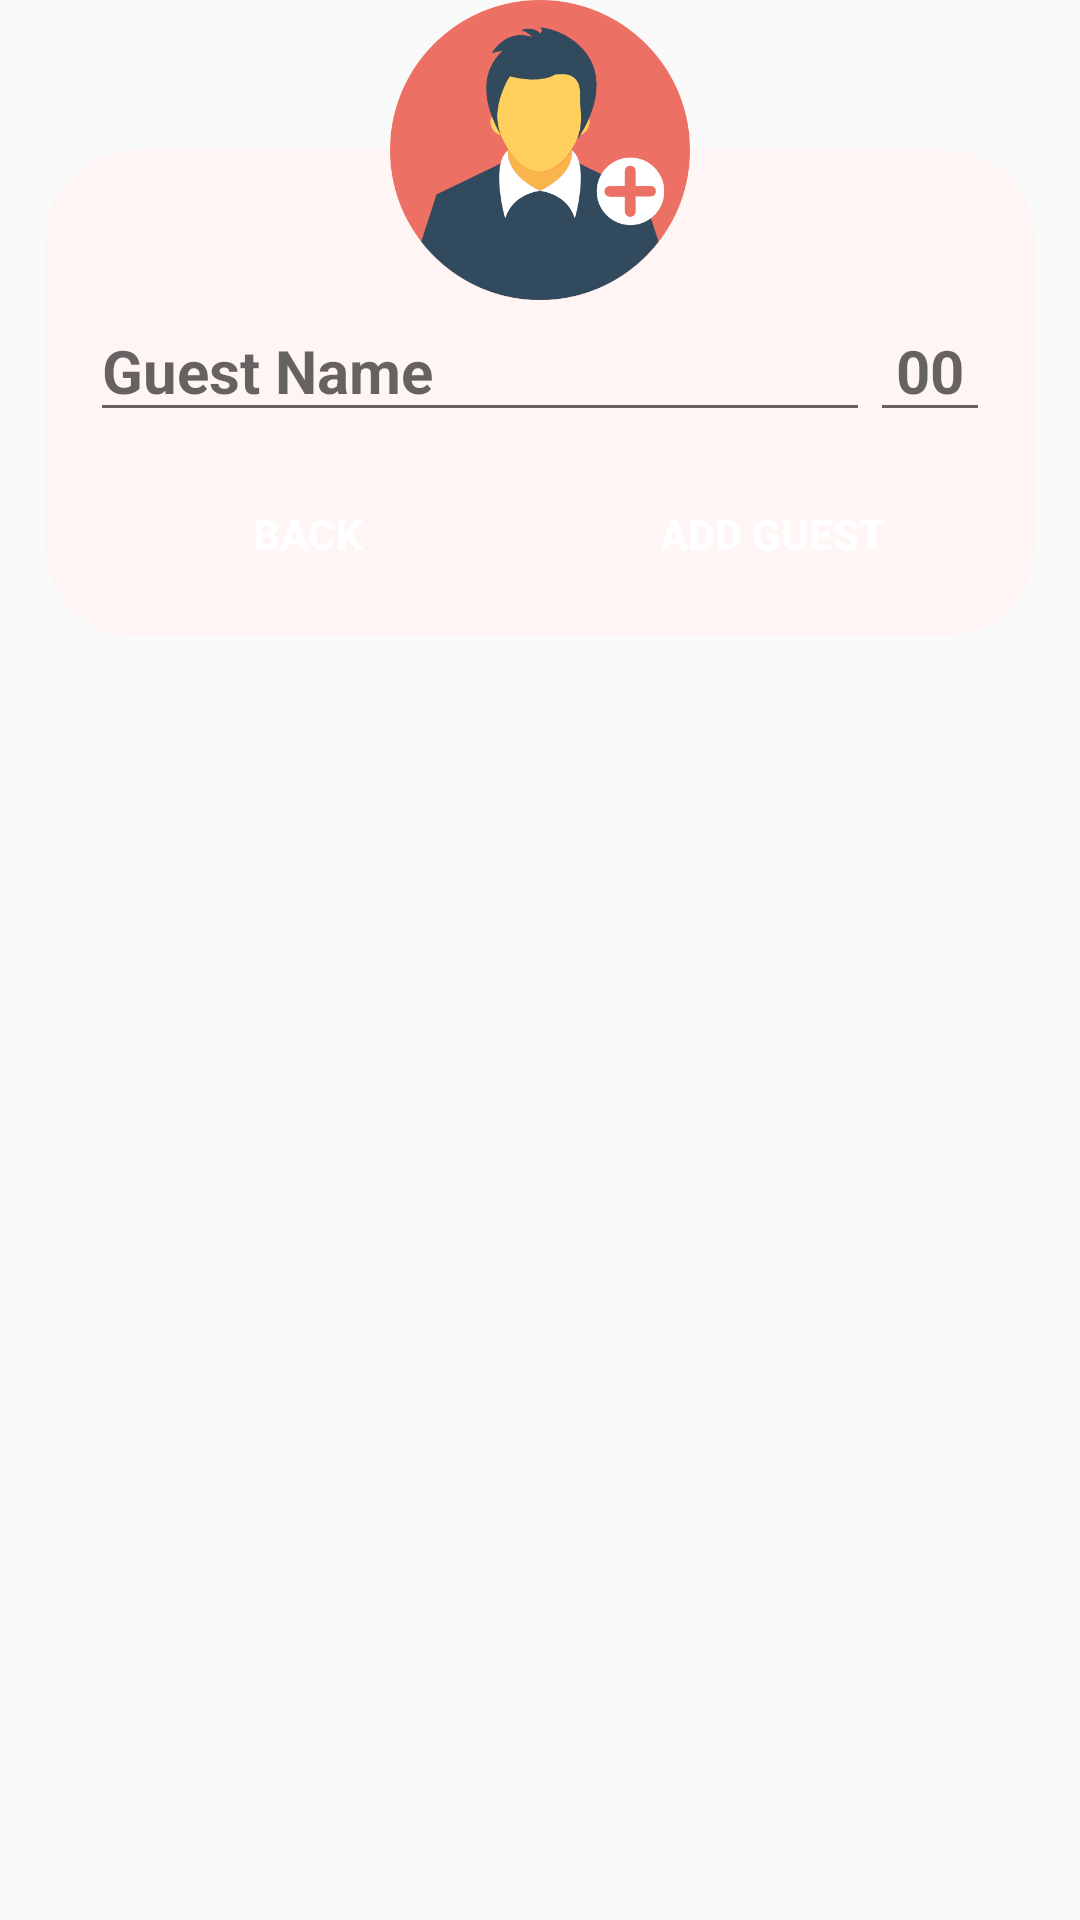

Point at icon controls on the screen. Image size 1080x1920, points as (x=x, y=y).
adduser: (x=540, y=150)
